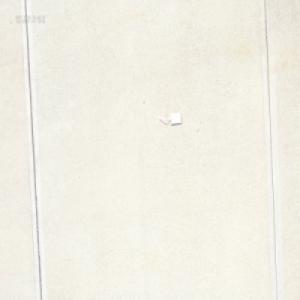LuggageTag: (158, 111, 182, 127)
